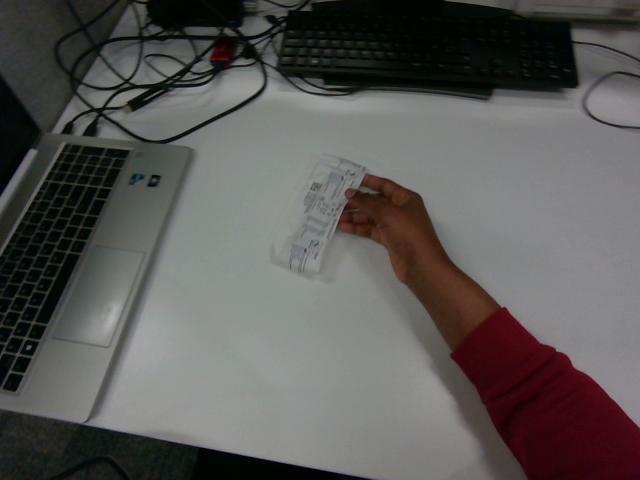syringe: (274, 155, 365, 274)
